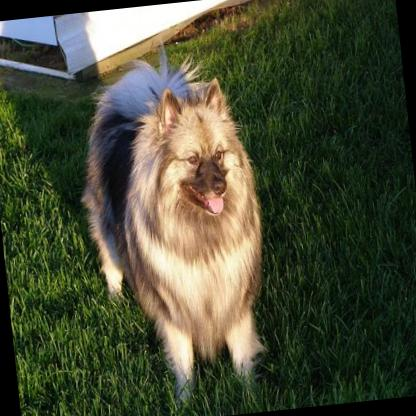keeshond: (65, 27, 279, 410)
